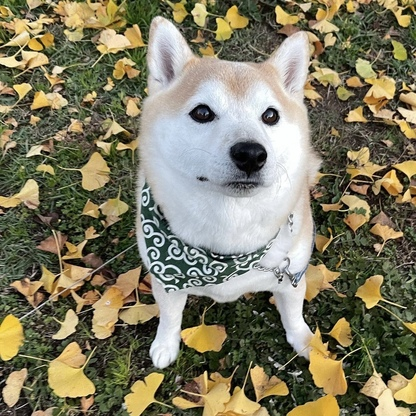shiba: (128, 12, 332, 374)
